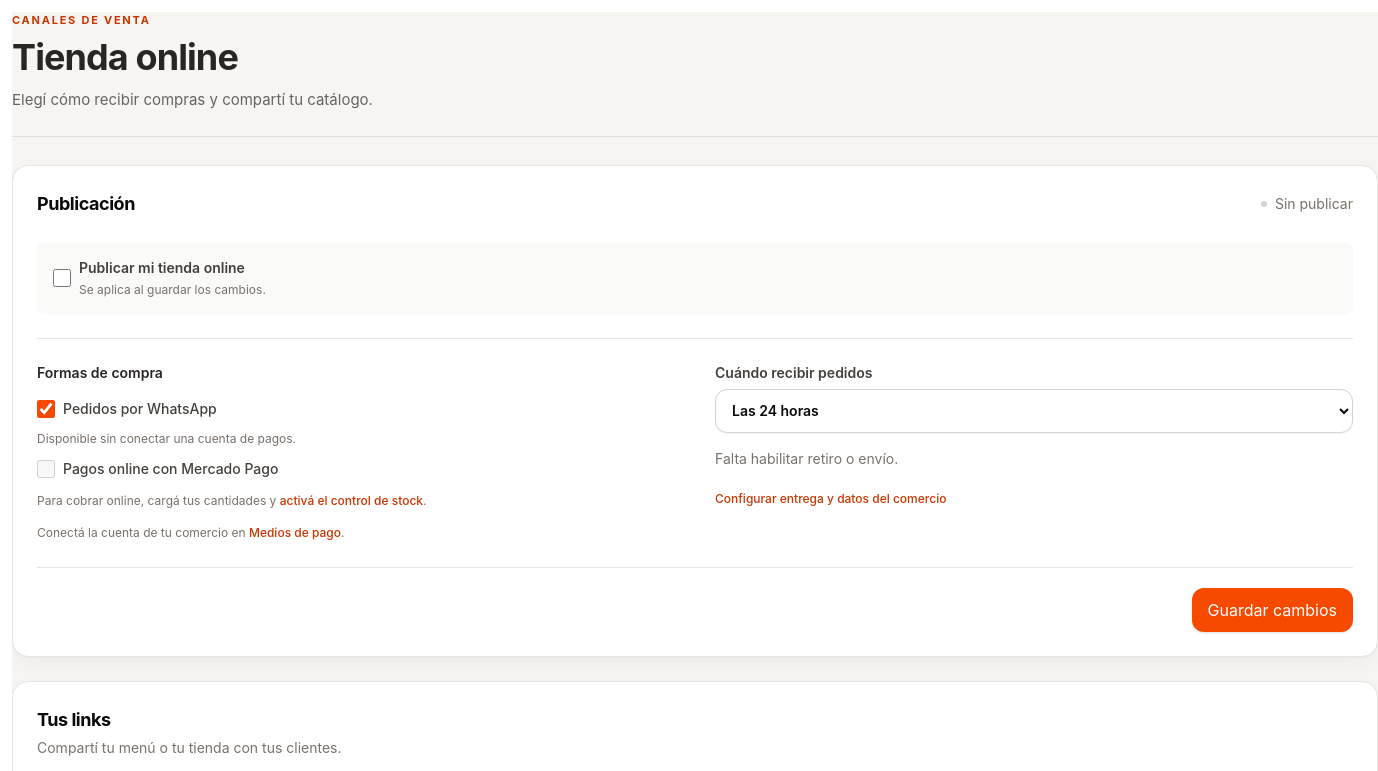
Scenario: StoreSettingsPage › blocks publication until pickup or delivery is enabled
This screenshot has width=1378, height=771.
Click the checkbox labelled "Publicar mi tienda online Se aplica al guardar los cambios." at (62, 278), box x1=53 y1=268 x2=71 y2=286
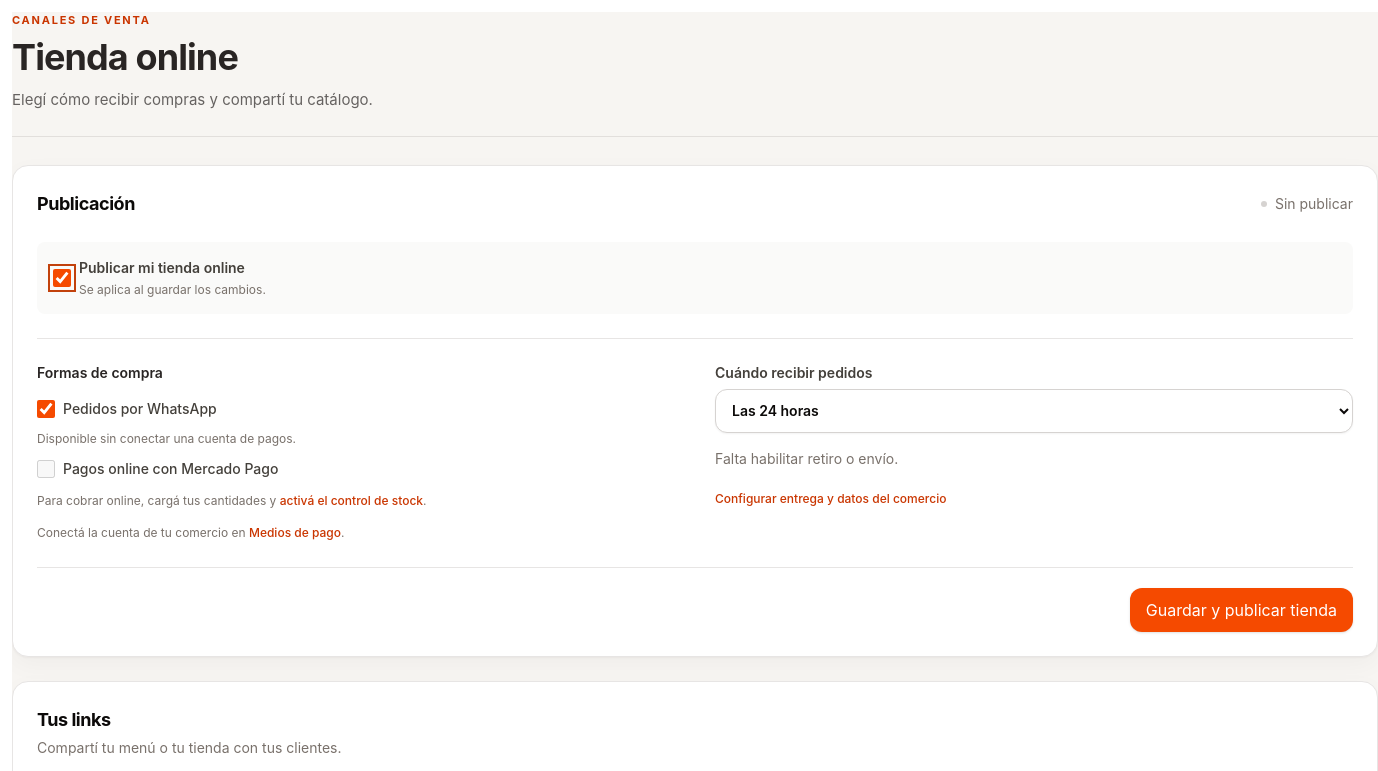
Click the button "Guardar y publicar tienda" at (1241, 610), box x1=1130 y1=588 x2=1353 y2=632
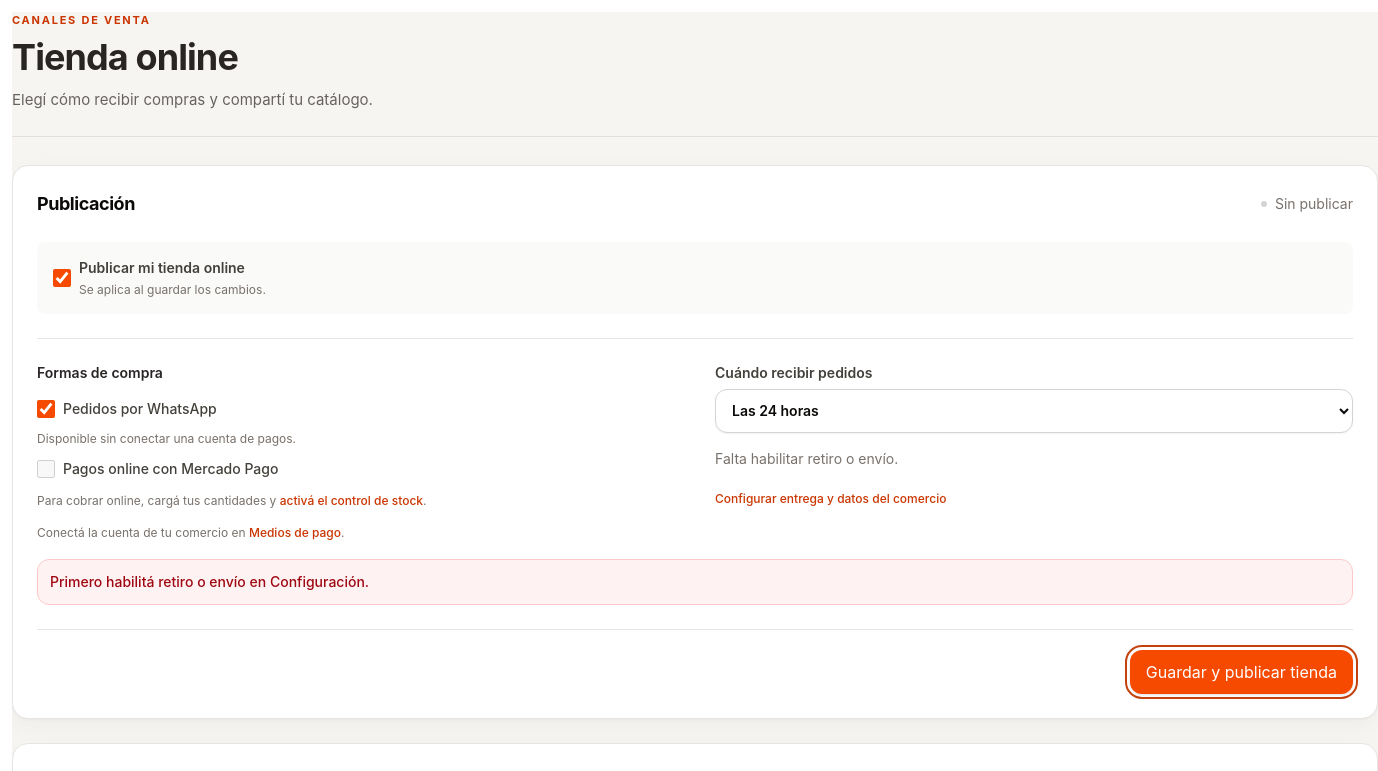
Expected: the message shows "Primero habilitá retiro o envío en Configuración", x1=50 y1=572 x2=369 y2=590
